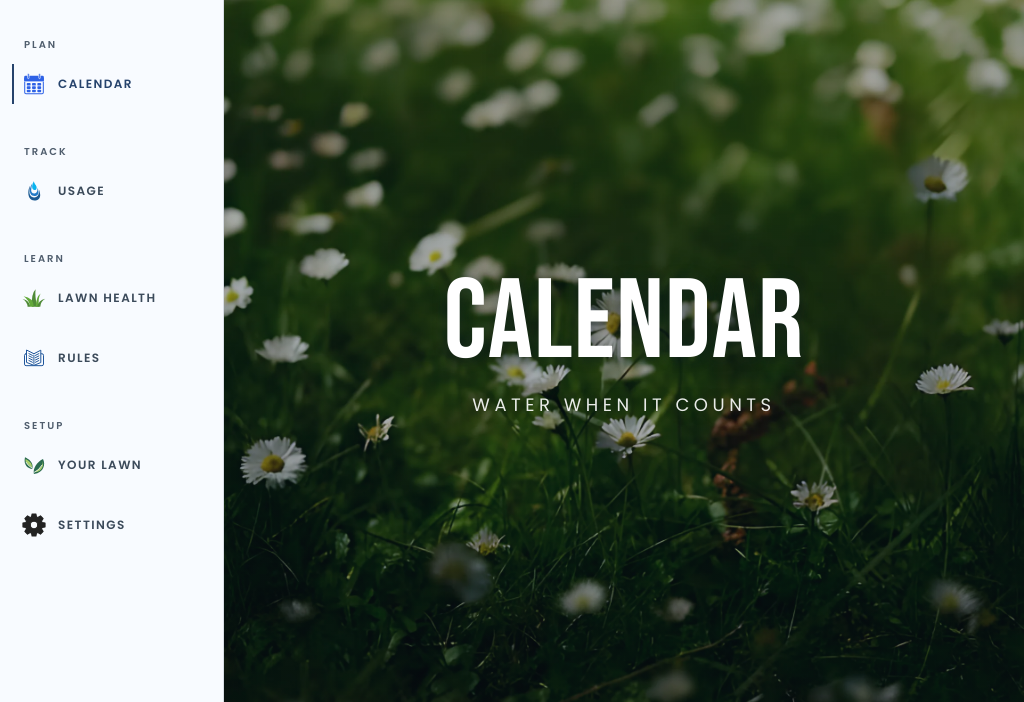
app UI › Lawn Health has a built-in helper that talks a problem through and shows a step-by-step fix
Click the button "Lawn Health" at (112, 298), box [12,278,211,318]
(page scrolled)
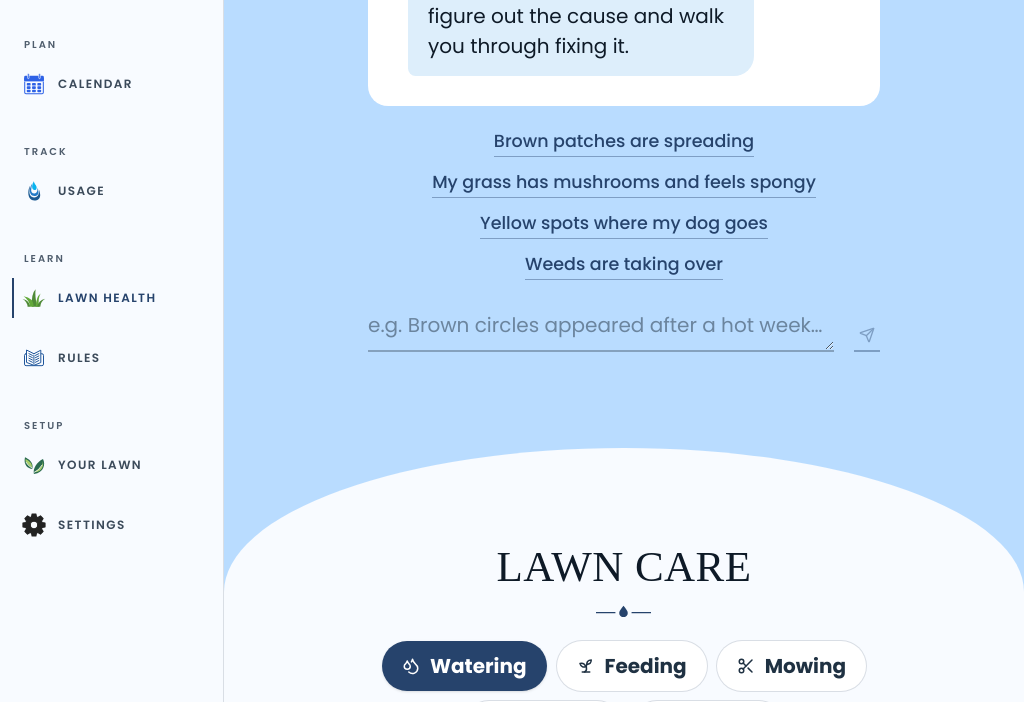
Type "There are mushrooms everywhere and the grass is soggy and spongy" into the text box named "Describe your lawn problem" at (601, 326), box [368,300,834,352]
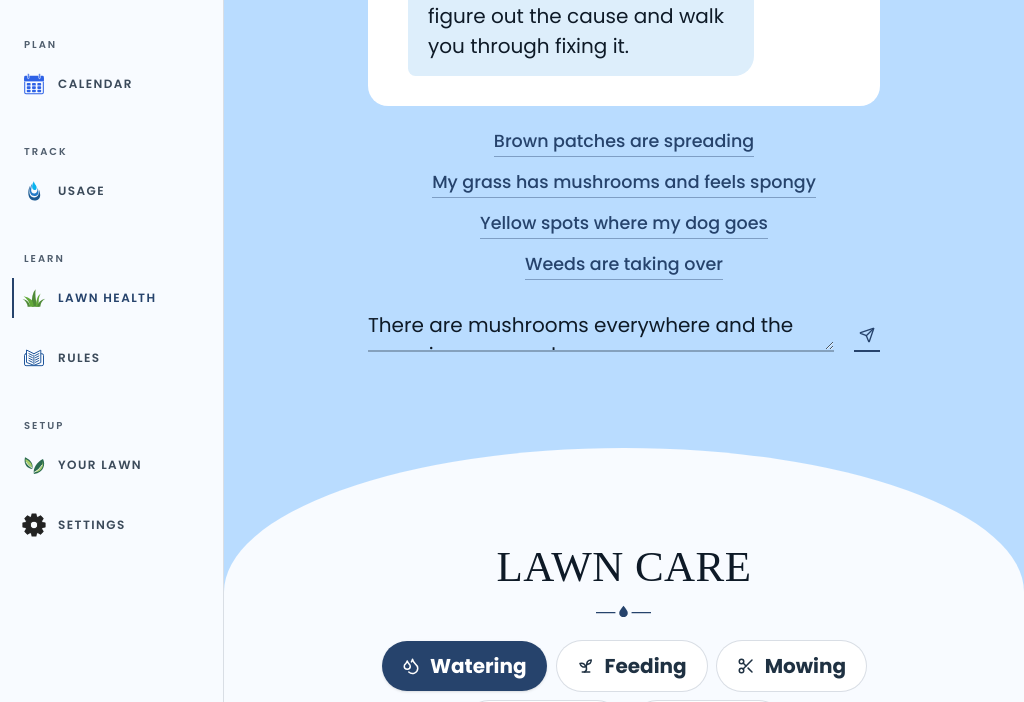
Click the button named "Send" at (867, 336), box [854,320,880,352]
(page scrolled)
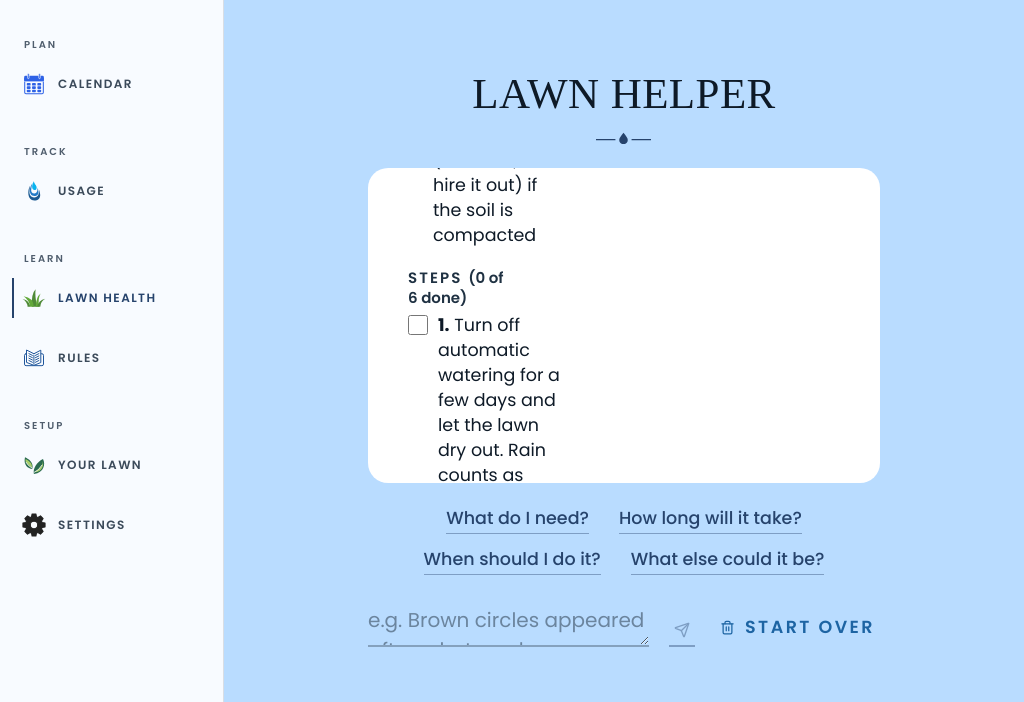
Click the checkbox at (418, 325), box [408,315,428,335]
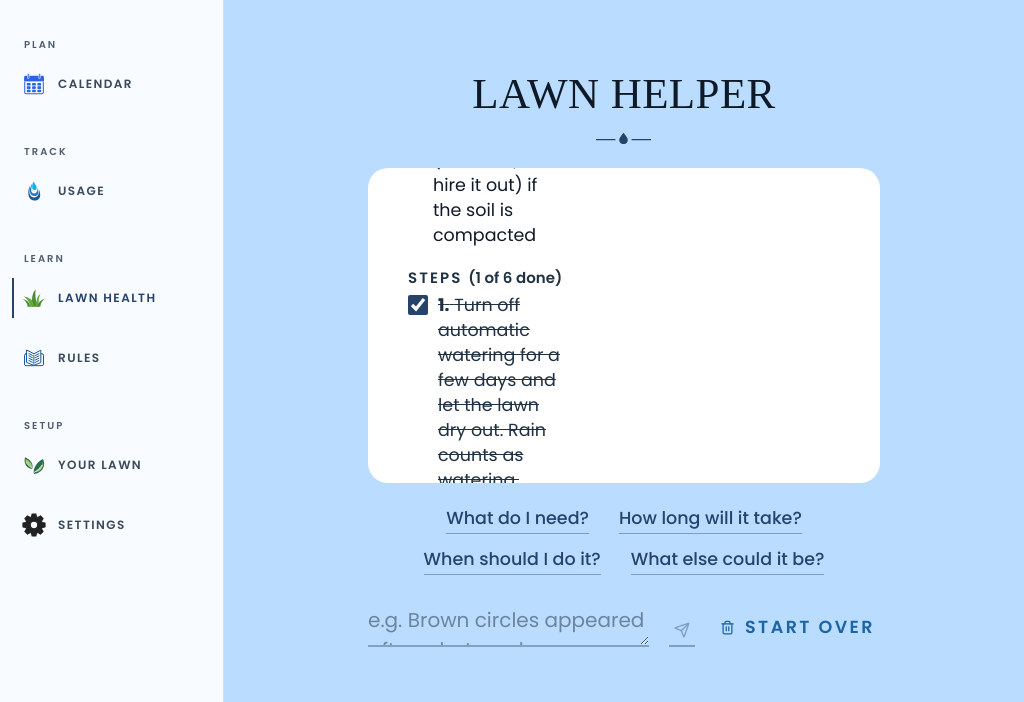
Check: the text "(1 of 6 done)" is shown, box [468,267,562,288]
Click the button "What do I need?" at (518, 518), box [446,503,589,534]
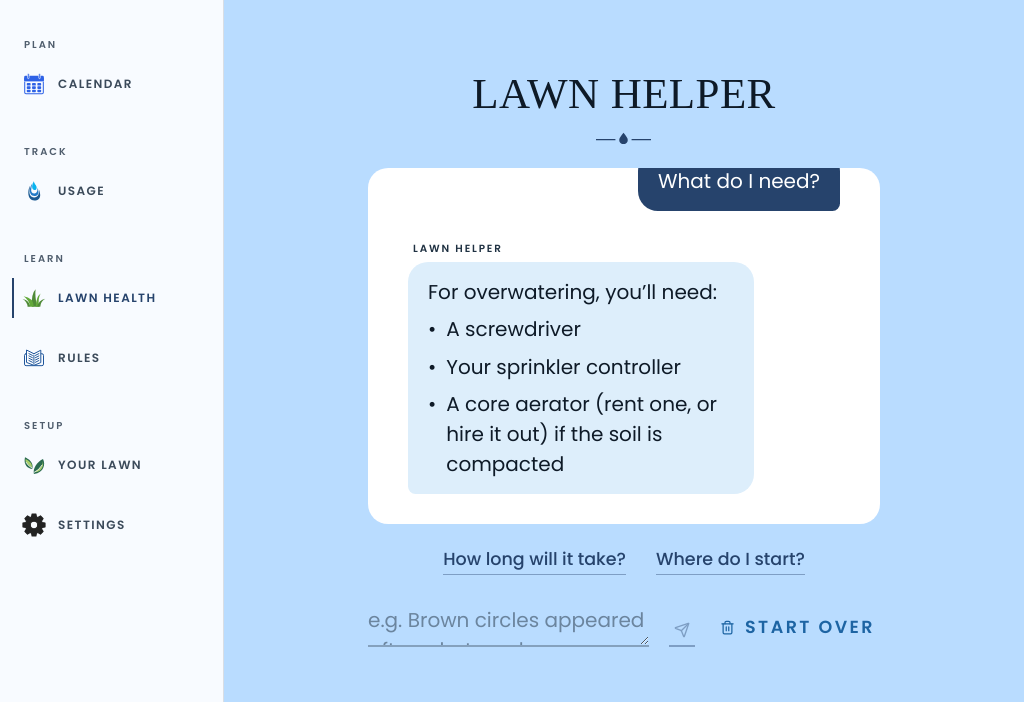
Check: the text "For overwatering, you’ll need:" is shown, box [428,276,734,306]
